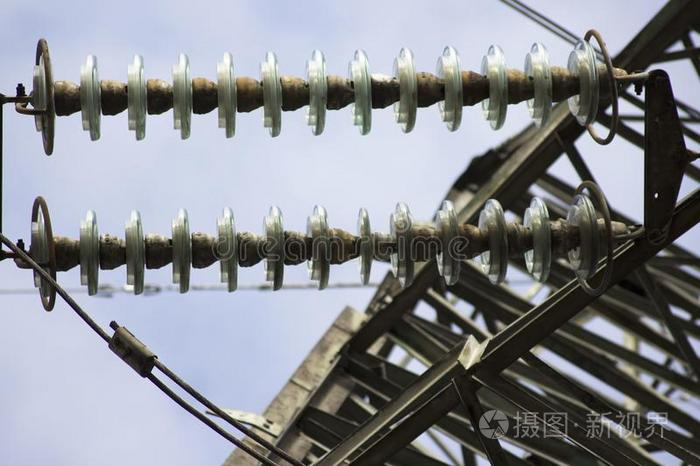insulator: (78, 193, 601, 299), (77, 40, 599, 144)
